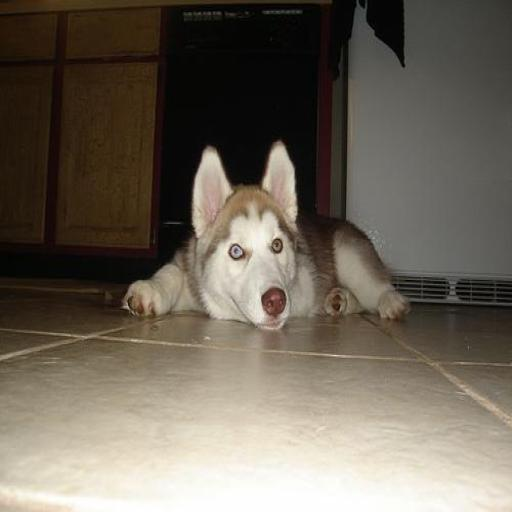dog_face: (198, 140, 295, 334)
